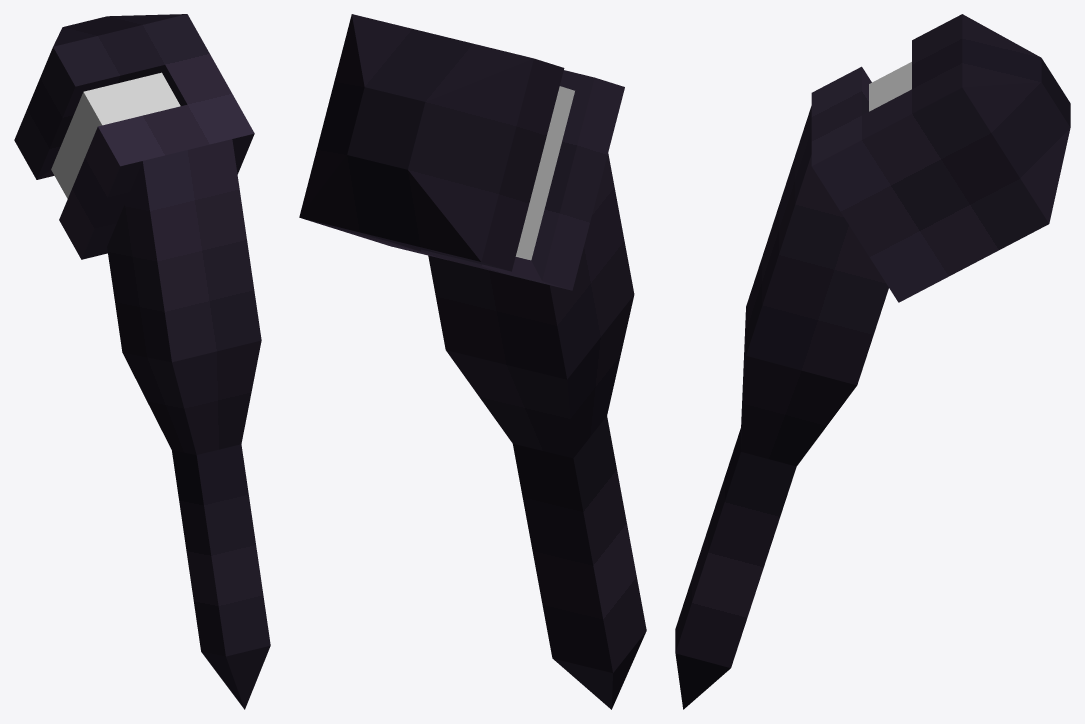
File: leg_ender_back_l.obj
The picture shows the model from 3 angles, left to right: view 1: azimuth 30°, elevation 25°; view 2: azimuth 150°, elevation 25°; view 3: azimuth 270°, elevation 25°; orthographic projection. The views are drawn at different scales.
Visible parts, largest first — view 1: LEG_ENDER_LEFTBACK.OBSVAR_Cube.384; view 2: LEG_ENDER_LEFTBACK.OBSVAR_Cube.384; view 3: LEG_ENDER_LEFTBACK.OBSVAR_Cube.384.
Part boxes in pixels (box(x1,y1,x2,y2)): LEG_ENDER_LEFTBACK.OBSVAR_Cube.384: box(14, 14, 270, 709); LEG_ENDER_LEFTBACK.OBSVAR_Cube.384: box(299, 14, 646, 709); LEG_ENDER_LEFTBACK.OBSVAR_Cube.384: box(675, 14, 1070, 709).
Size of the model in its own units: 0.1875 by 0.784 by 0.4258.
